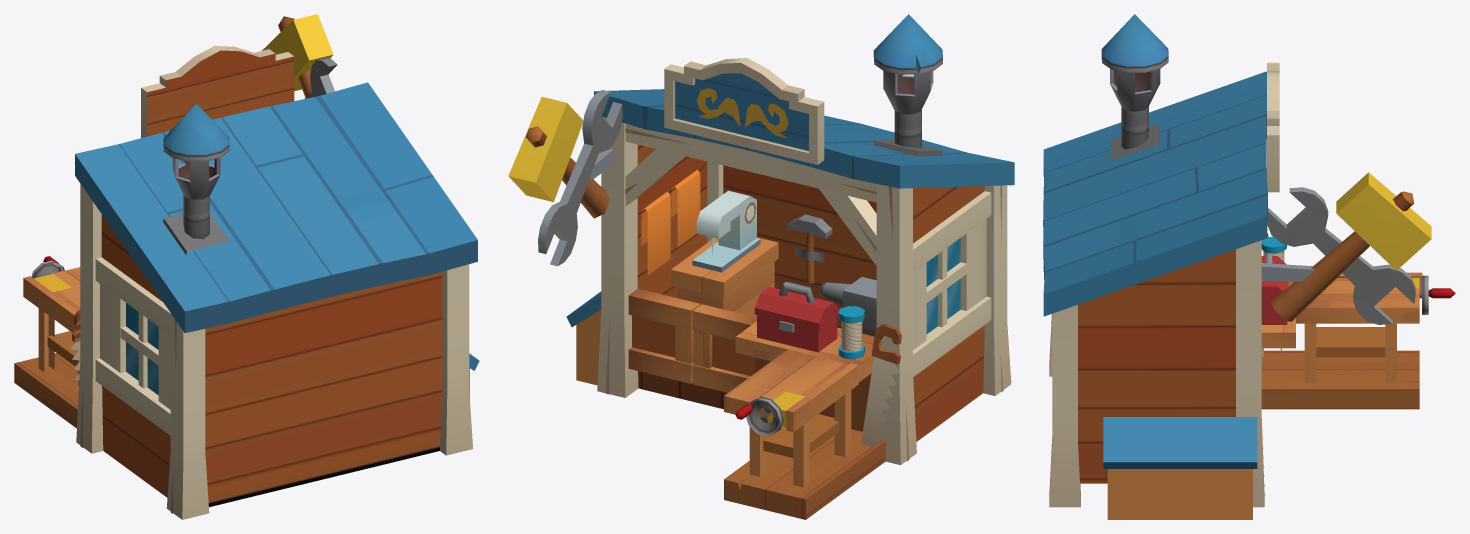
The model's file is B_Crafting_Station.fbx.
The picture shows the model from 3 angles, left to right: view 1: azimuth 30°, elevation 25°; view 2: azimuth 150°, elevation 25°; view 3: azimuth 270°, elevation 25°; orthographic projection. The views are drawn at different scales.
Parts seen in each view (by area): view 1: B_Crafting_Station; view 2: B_Crafting_Station; view 3: B_Crafting_Station.
Part boxes in pixels (box(x1,y1,x2,y2)): B_Crafting_Station: box(14, 14, 479, 519); B_Crafting_Station: box(508, 14, 1014, 519); B_Crafting_Station: box(1043, 14, 1455, 519).
Bounding box in the file's own units: 5.02 × 5.46 × 5.41.
